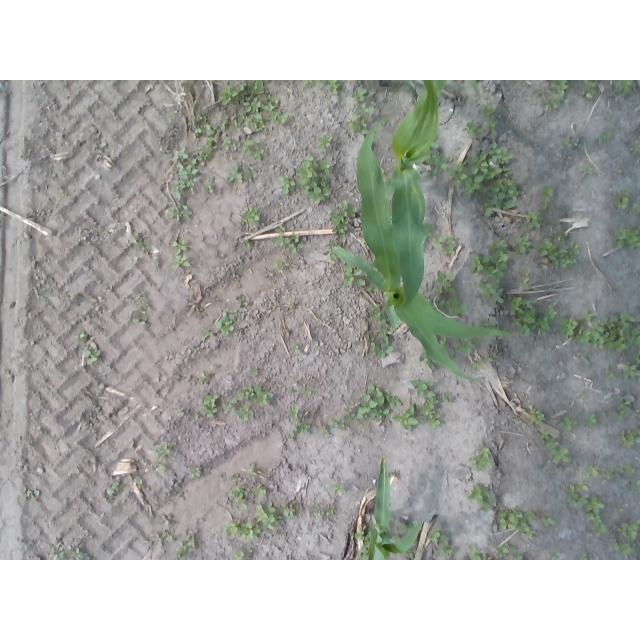Maize: (332, 122, 509, 383), (390, 80, 446, 309), (369, 460, 424, 560), (468, 80, 481, 101), (406, 80, 416, 89)
Weeds: (450, 142, 519, 219), (220, 81, 289, 136), (578, 311, 640, 353), (471, 251, 510, 306), (508, 296, 558, 338), (171, 147, 208, 200), (222, 385, 274, 421), (356, 384, 402, 421), (297, 156, 330, 204), (434, 270, 466, 314), (536, 236, 580, 268), (496, 509, 537, 540), (47, 536, 89, 561), (330, 201, 360, 235), (611, 521, 640, 556), (223, 518, 262, 542), (196, 115, 217, 158), (272, 226, 304, 253), (467, 483, 496, 510), (542, 81, 567, 112), (348, 103, 372, 134), (468, 444, 494, 471), (419, 397, 441, 428), (392, 406, 419, 431), (255, 501, 278, 530), (215, 310, 240, 335), (301, 81, 342, 96), (175, 530, 196, 559), (614, 227, 640, 250), (368, 335, 395, 357), (492, 542, 524, 560), (144, 531, 172, 551), (426, 152, 448, 176), (127, 291, 149, 314), (343, 266, 365, 287), (617, 396, 635, 421), (201, 395, 220, 418), (586, 513, 606, 534), (152, 443, 173, 463), (410, 379, 433, 397), (511, 235, 531, 254), (621, 429, 640, 448), (134, 233, 154, 251), (549, 448, 571, 464), (585, 498, 605, 515), (418, 352, 435, 372), (440, 236, 457, 256), (167, 210, 193, 223), (240, 207, 261, 223), (229, 486, 247, 504), (618, 362, 638, 378), (560, 317, 576, 337), (616, 190, 631, 211), (468, 358, 492, 371), (455, 338, 473, 355), (527, 211, 544, 229), (280, 177, 297, 195), (226, 166, 242, 183), (465, 122, 484, 136), (85, 349, 101, 365), (618, 464, 637, 477), (325, 242, 338, 261), (531, 408, 546, 424), (582, 81, 598, 96), (172, 239, 188, 254), (280, 503, 297, 517), (173, 256, 191, 269), (353, 87, 368, 102), (379, 318, 393, 334), (618, 81, 632, 96), (433, 549, 452, 560), (491, 239, 510, 250), (23, 488, 39, 501), (330, 484, 346, 497), (561, 417, 577, 430), (368, 307, 381, 323), (318, 134, 331, 150), (427, 525, 439, 542), (296, 421, 313, 433), (331, 416, 345, 430), (253, 147, 267, 161), (585, 464, 601, 476), (471, 544, 482, 561), (479, 106, 496, 117), (544, 513, 557, 527), (244, 140, 257, 154), (76, 330, 89, 343), (568, 486, 579, 501), (255, 486, 270, 497), (272, 260, 288, 270), (106, 483, 120, 494), (233, 548, 245, 560), (579, 494, 590, 507), (575, 481, 589, 491), (587, 413, 597, 427), (197, 308, 208, 320), (345, 408, 356, 420), (539, 428, 550, 440), (424, 225, 436, 236), (543, 201, 554, 213), (191, 468, 202, 479), (291, 407, 302, 418), (485, 120, 500, 128), (160, 515, 172, 525), (326, 507, 338, 517), (432, 236, 442, 248), (312, 506, 325, 515), (440, 535, 451, 545), (231, 472, 243, 481), (236, 299, 248, 308), (546, 440, 558, 449), (516, 282, 528, 291), (606, 368, 615, 379), (243, 163, 254, 172), (174, 408, 186, 416), (133, 318, 146, 325), (605, 470, 615, 479), (485, 320, 500, 326), (583, 310, 593, 319), (563, 139, 573, 148), (544, 188, 554, 197), (146, 84, 155, 94), (224, 141, 232, 152), (301, 389, 313, 396), (633, 140, 640, 152), (557, 234, 566, 243), (134, 475, 142, 485), (247, 464, 257, 472), (177, 202, 187, 210), (633, 204, 640, 215), (159, 464, 168, 472), (442, 394, 451, 402), (549, 228, 557, 237), (210, 184, 219, 192), (201, 332, 215, 337), (250, 369, 260, 376), (287, 431, 294, 441), (633, 352, 640, 362), (126, 256, 139, 261), (292, 345, 301, 352), (613, 505, 623, 511), (188, 295, 194, 305), (439, 337, 447, 344), (521, 269, 529, 276), (244, 173, 252, 180), (634, 480, 640, 489), (202, 377, 211, 383), (208, 175, 217, 181), (275, 303, 282, 310), (584, 168, 593, 173), (581, 553, 588, 559), (244, 240, 250, 247), (242, 503, 248, 510), (483, 556, 491, 561), (599, 134, 607, 139), (602, 411, 607, 418), (616, 170, 624, 174), (288, 301, 293, 307), (185, 376, 191, 381), (293, 378, 300, 382), (552, 556, 557, 561), (103, 231, 109, 234), (202, 372, 206, 376)
